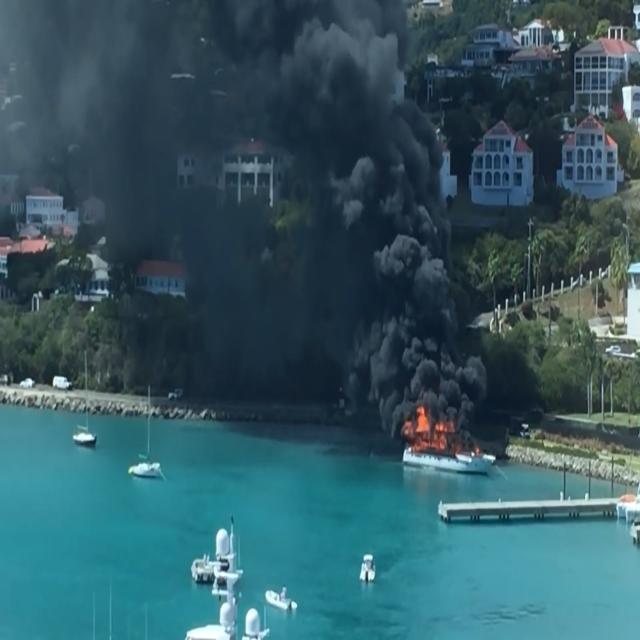Smoke: (378, 219, 484, 420)
